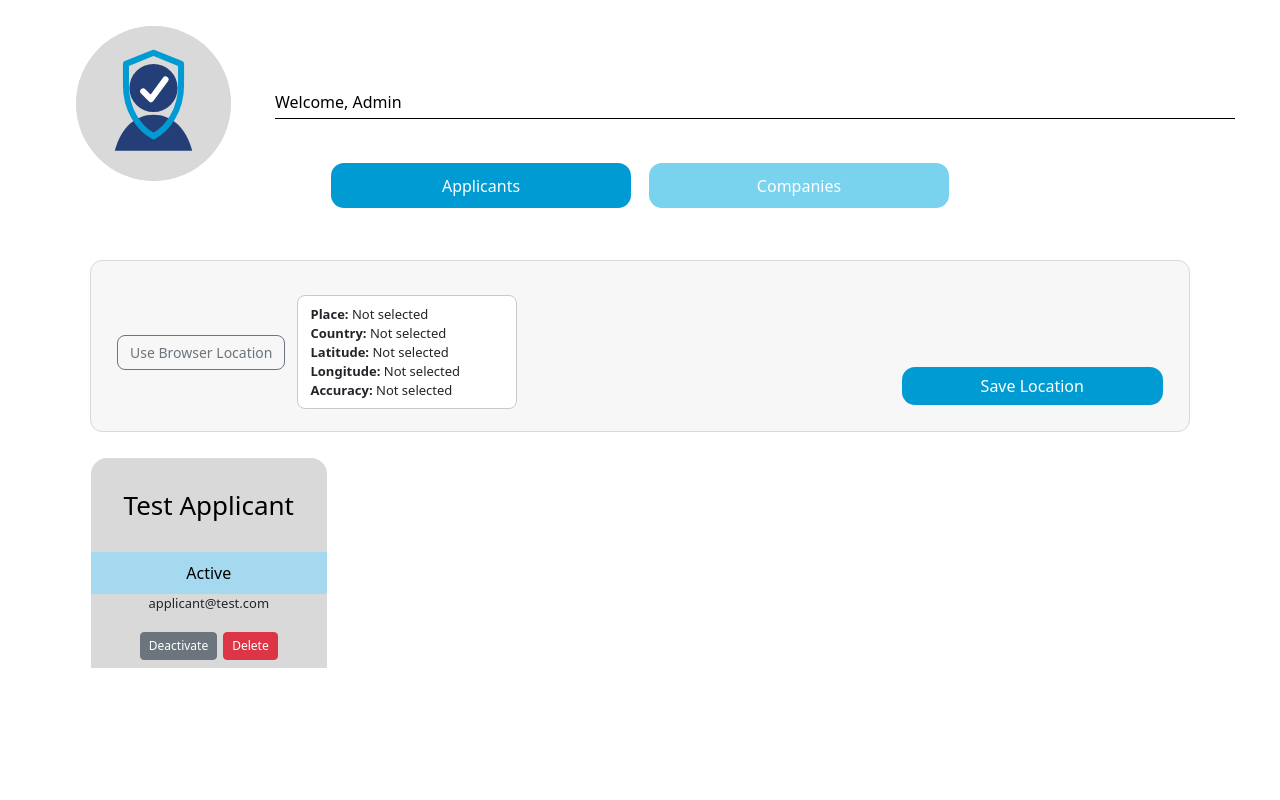
Test: Smart Job Application Tracking › renders admin user management list
Expected: the text "Test Applicant" is shown, top-left (124, 487), bottom-right (294, 523)
Click the button "Companies" at (799, 186), box top-left (649, 163), bottom-right (949, 208)
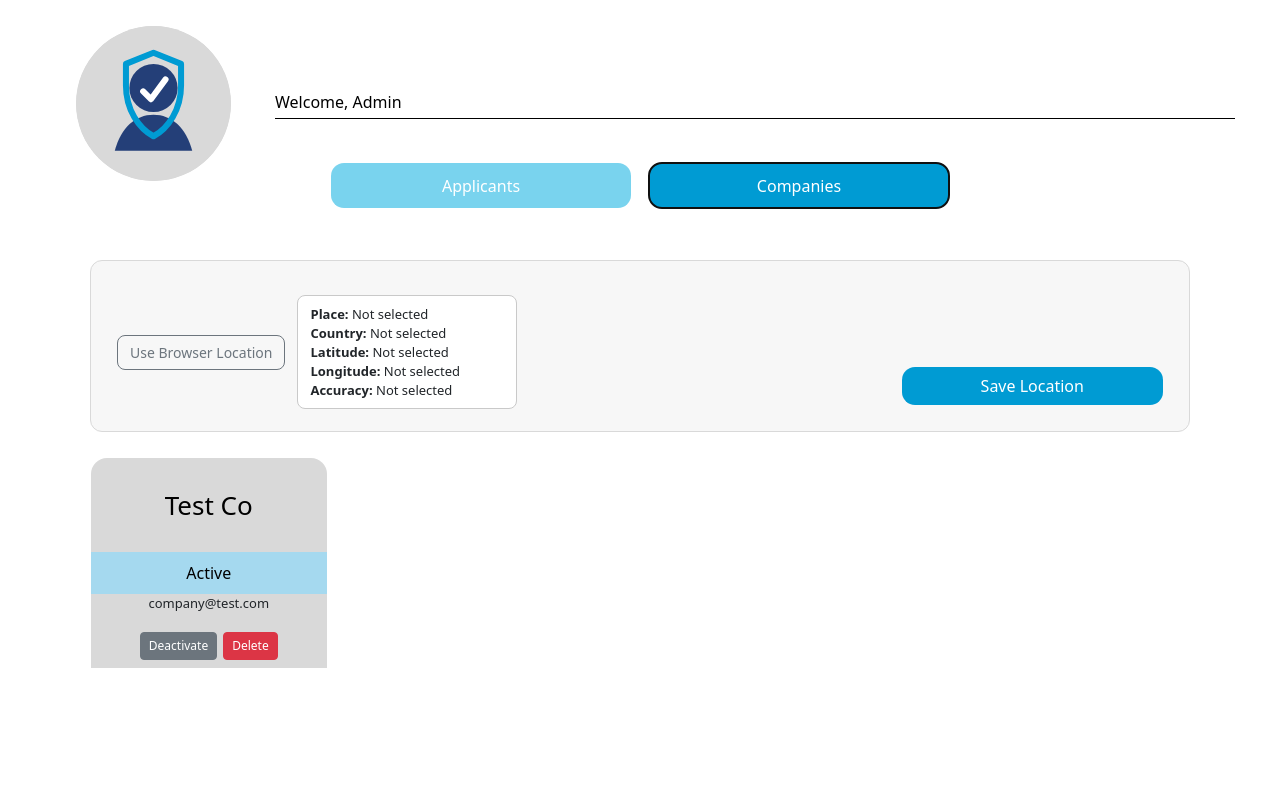
Expected: the text "Test Co" is shown, top-left (165, 487), bottom-right (253, 523)
